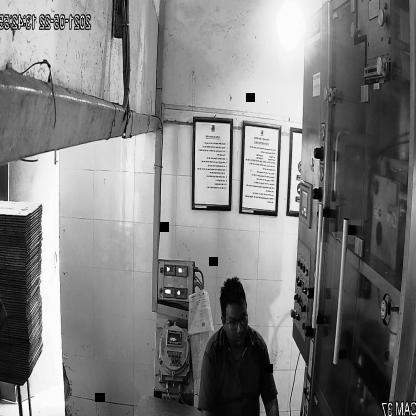goggles: (221, 309, 250, 331)
